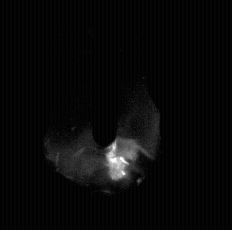arame: (93, 0, 118, 147)
poca: (47, 0, 158, 230)
